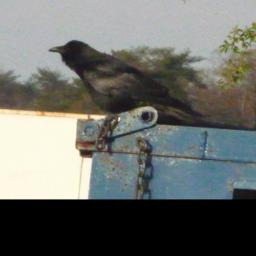Crow: (47, 38, 202, 123)
